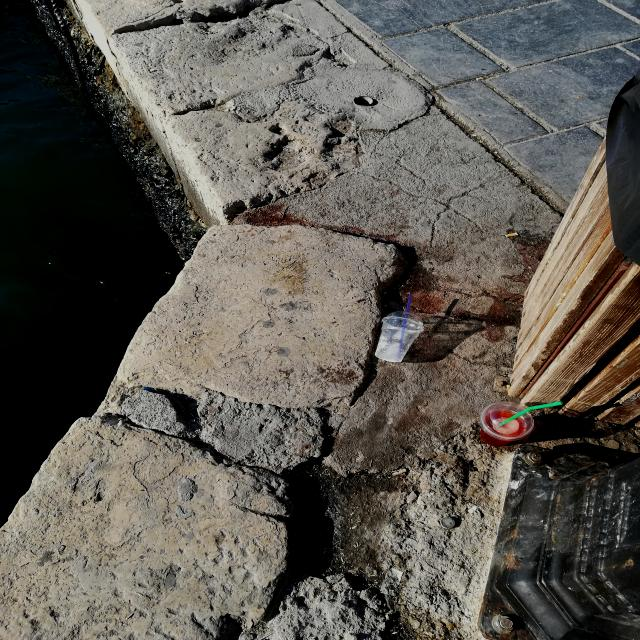Cigarette: (505, 232, 519, 237), (476, 76, 486, 81), (507, 385, 511, 395)
Disposable plastic cup: (478, 401, 535, 447), (375, 311, 425, 362)
Plastic lid: (479, 401, 535, 441), (382, 311, 424, 329)
Plastic straw: (499, 401, 563, 426), (398, 294, 412, 354)
